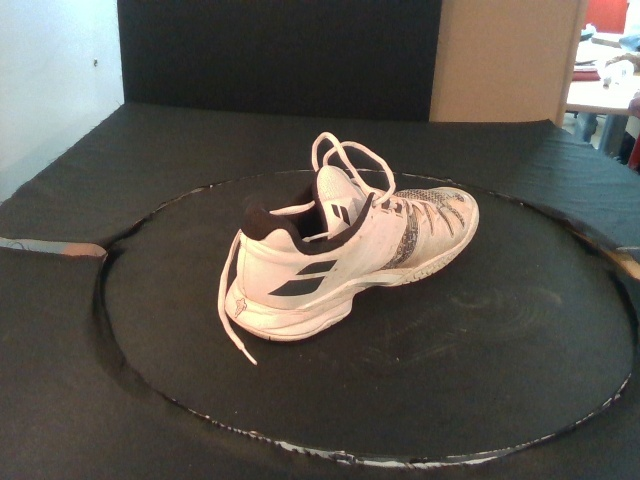shoe: (224, 164, 480, 343)
